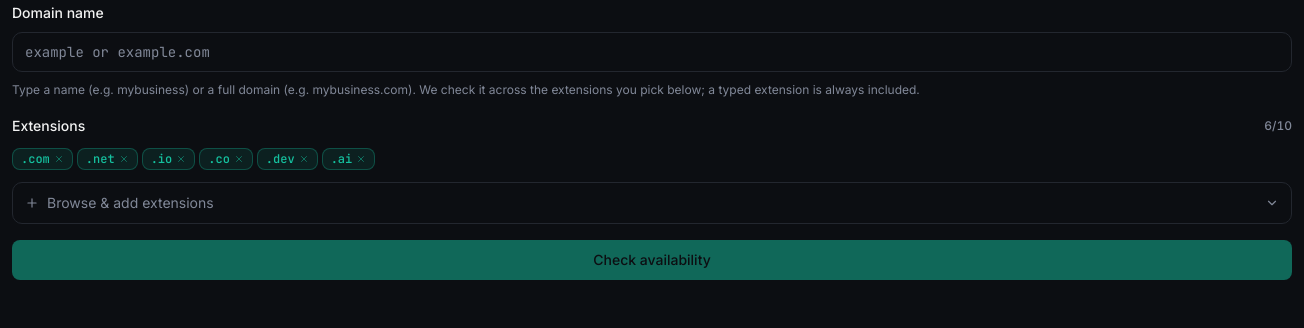
Test: cost notes › prices a name across the selected extensions
Default selection: 6 extensions → 6 × 0.05
In the field labelled "Domain name": [652, 52] box left=12, top=32, right=1292, bottom=72, type "acme"
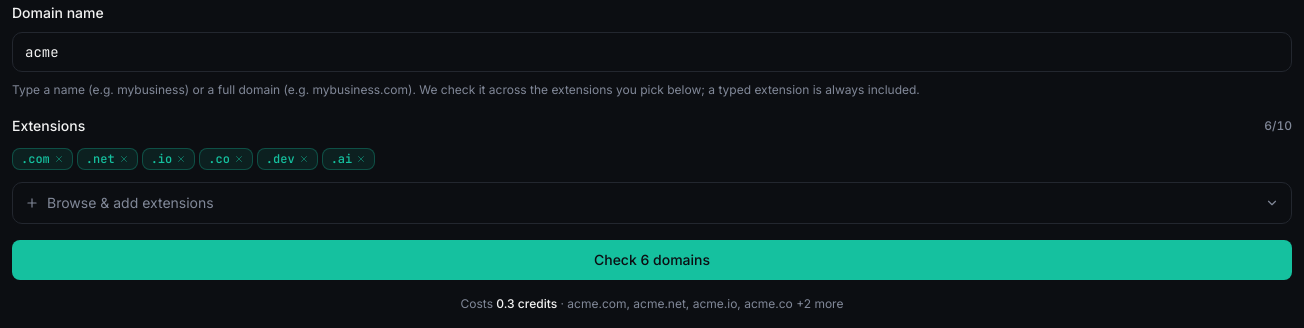
Expected: the element with test id "cost-note" shows "0.3 credits", left=460, top=296, right=843, bottom=310
A typed extension outside the selection is added: 7 domains
Replace the text in the field labelled "Domain name" with "acme.xyz": [652, 52] box left=12, top=32, right=1292, bottom=72
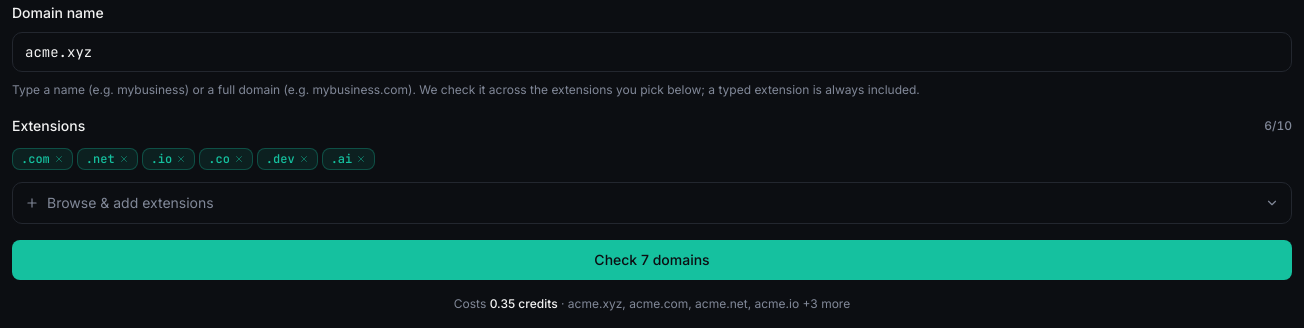
Expected: the element with test id "cost-note" shows "0.35 credits", left=454, top=296, right=850, bottom=310
